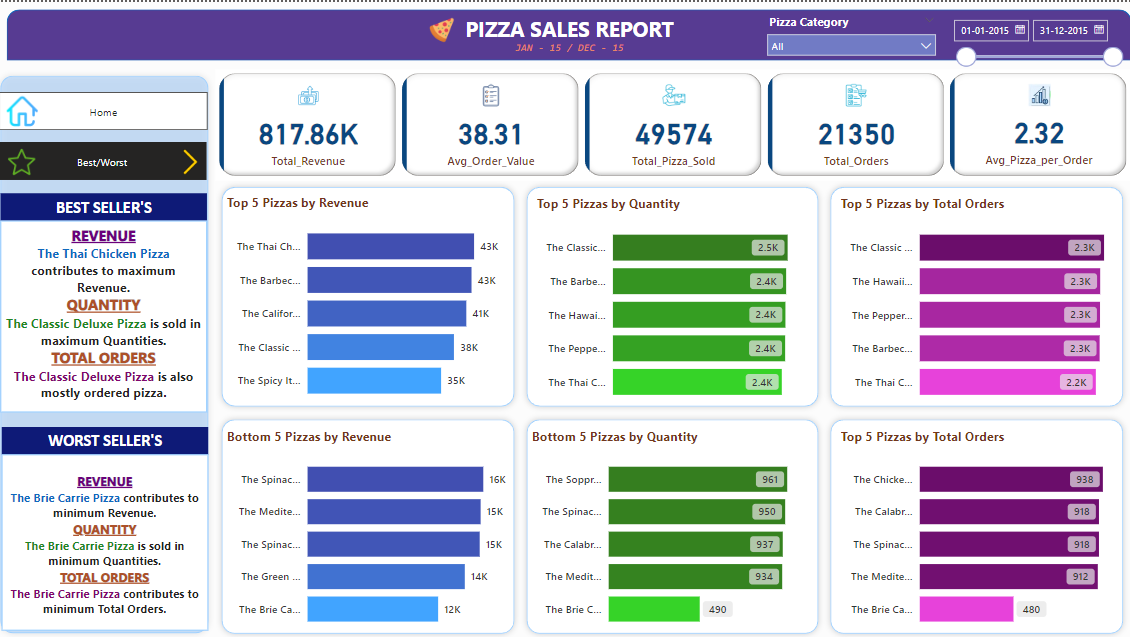

The dashboard page shown, as its layout file describes it:
{"tool":"powerbi","page":{"name":"Best/Worst","canvas":[1500,820],"ordinal":1},"visuals":[{"type":"shape","box":[15,87.2,283.4,733.1],"z":0},{"type":"cardVisual","fields":{"Data":["pizza_db pizza_sales.Total_Revenue","pizza_db pizza_sales.Avg_Order_Value","pizza_db pizza_sales.Total_Pizza_Sold","pizza_db pizza_sales.Total_Orders","pizza_db pizza_sales.Avg_Pizza_per_Order"]},"box":[298.6,87.1,1178.6,142.9],"z":1000},{"type":"shape","box":[30,10,1447.1,65.7],"z":2000},{"type":"textbox","box":[610,11.4,290,45.7],"z":3000},{"type":"textbox","box":[662.2,43.6,184,34.1],"z":4000},{"type":"image","box":[568.6,14.3,41.4,42.9],"z":5000},{"type":"shape","box":[298.4,230.3,392.4,298.4],"z":6000},{"type":"textbox","box":[23.2,246.6,265.7,35.4],"z":7000},{"type":"textbox","box":[23.2,282.1,265.7,246.6],"z":8000},{"type":"textbox","box":[24.5,546.4,265.7,35.4],"z":9000},{"type":"textbox","box":[24.1,582.1,265.3,226.7],"z":10000},{"type":"slicer","fields":{"Values":["pizza_db pizza_sales.pizza_category"]},"box":[998.8,9.5,237.1,65.4],"z":11000},{"type":"slicer","fields":{"Values":["pizza_db pizza_sales.order_date"]},"box":[1235.9,12.3,238.5,74.9],"z":12000},{"type":"shape","box":[690.9,230.3,391.1,298.4],"z":13000},{"type":"shape","box":[1081.9,230.3,392.4,298.4],"z":14000},{"type":"shape","box":[298.4,528.7,392.4,291.6],"z":15000},{"type":"shape","box":[690.9,528.7,391.1,291.6],"z":16000},{"type":"shape","box":[1081.9,528.7,392.4,291.6],"z":17000},{"type":"barChart","title":"Top 5 Pizzas by Revenue","fields":{"Category":["pizza_db pizza_sales.pizza_name"],"Y":["pizza_db pizza_sales.Total_Revenue"]},"box":[308.7,246,382.7,281.4],"z":18000},{"type":"barChart","title":"Bottom 5 Pizzas by Revenue","fields":{"Category":["pizza_db pizza_sales.pizza_name"],"Y":["pizza_db pizza_sales.Total_Revenue"]},"box":[308.7,546.7,382.7,273.4],"z":19000},{"type":"barChart","title":"Top 5 Pizzas by Quantity","fields":{"Category":["pizza_db pizza_sales.pizza_name"],"Y":["pizza_db pizza_sales.Total_Pizza_Sold"]},"box":[707.5,247.6,358.6,281.4],"z":20000},{"type":"barChart","title":"Bottom 5 Pizzas by Quantity","fields":{"Category":["pizza_db pizza_sales.pizza_name"],"Y":["pizza_db pizza_sales.Total_Pizza_Sold"]},"box":[701.1,546.7,365,273.4],"z":21000},{"type":"barChart","title":"Top 5 Pizzas by Total Orders","fields":{"Category":["pizza_db pizza_sales.pizza_name"],"Y":["pizza_db pizza_sales.Total_Orders"]},"box":[1098.3,247.6,376.3,281.4],"z":22000},{"type":"barChart","title":"Top 5 Pizzas by Total Orders","fields":{"Category":["pizza_db pizza_sales.pizza_name"],"Y":["pizza_db pizza_sales.Total_Orders"]},"box":[1098.3,546.7,376.3,273.4],"z":23000},{"type":"pageNavigator","box":[22.5,119,266.9,49.9],"z":24000},{"type":"pageNavigator","box":[22.5,168.8,266.9,53.1],"z":24001},{"type":"image","box":[246,175.3,41.8,41.8],"z":24002},{"type":"image","box":[22.5,119,53.1,49.9],"z":24003},{"type":"image","box":[24.1,173.7,51.5,45],"z":24004}]}

Visuals, with their boxes on the page's 1500x820 design canvas (x1, y1, x2, y2). These are canvas units, not pixel positions in the 1130x637 screenshot, which may show the page scaled, cropped or inside an application window:
shape: [15, 87, 298, 820]
cardVisual - pizza_db pizza_sales.Total_Revenue x pizza_db pizza_sales.Avg_Order_Value: [299, 87, 1477, 230]
shape: [30, 10, 1477, 76]
textbox: [610, 11, 900, 57]
textbox: [662, 44, 846, 78]
image: [569, 14, 610, 57]
shape: [298, 230, 691, 529]
textbox: [23, 247, 289, 282]
textbox: [23, 282, 289, 529]
textbox: [24, 546, 290, 582]
textbox: [24, 582, 289, 809]
slicer - pizza_db pizza_sales.pizza_category: [999, 10, 1236, 75]
slicer - pizza_db pizza_sales.order_date: [1236, 12, 1474, 87]
shape: [691, 230, 1082, 529]
shape: [1082, 230, 1474, 529]
shape: [298, 529, 691, 820]
shape: [691, 529, 1082, 820]
shape: [1082, 529, 1474, 820]
"Top 5 Pizzas by Revenue" barChart: [309, 246, 691, 527]
"Bottom 5 Pizzas by Revenue" barChart: [309, 547, 691, 820]
"Top 5 Pizzas by Quantity" barChart: [708, 248, 1066, 529]
"Bottom 5 Pizzas by Quantity" barChart: [701, 547, 1066, 820]
"Top 5 Pizzas by Total Orders" barChart: [1098, 248, 1475, 529]
"Top 5 Pizzas by Total Orders" barChart: [1098, 547, 1475, 820]
pageNavigator: [22, 119, 289, 169]
pageNavigator: [22, 169, 289, 222]
image: [246, 175, 288, 217]
image: [22, 119, 76, 169]
image: [24, 174, 76, 219]
